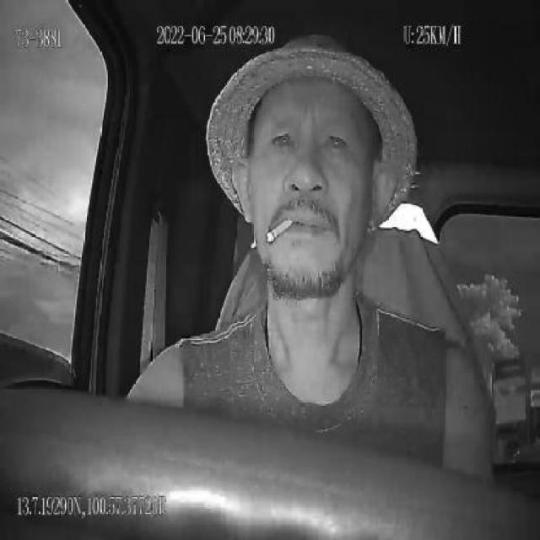smoking: (266, 216, 295, 242)
